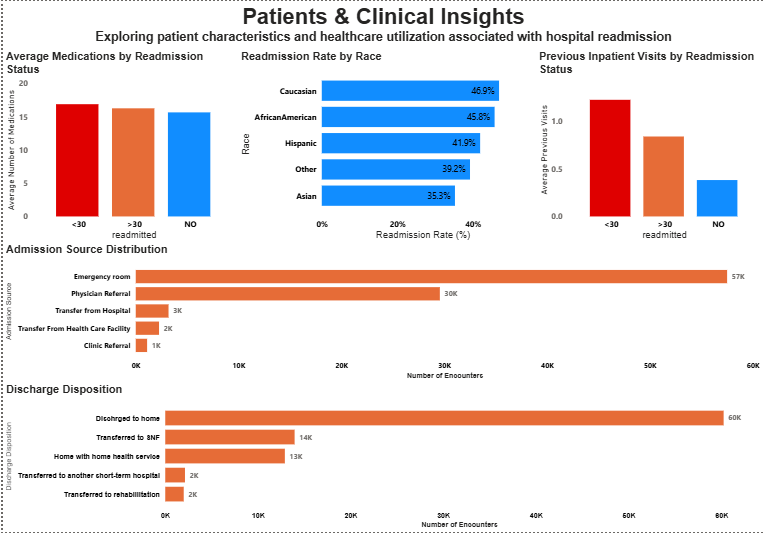

The dashboard page shown, as its layout file describes it:
{"tool":"powerbi","page":{"name":"Patients & Clinical Insights","canvas":[1290,900],"ordinal":1},"visuals":[{"type":"textbox","box":[0,0,1289.8,83.1],"z":0},{"type":"clusteredBarChart","title":"Readmission Rate by Race","fields":{"Category":["Diabetes_readmission_clean.race"],"Y":["AdmissionSourceLookup.Readmission Rate"]},"box":[398.3,83.1,505.1,327.1],"z":1000},{"type":"clusteredColumnChart","title":"Average Medications by Readmission Status","fields":{"Category":["Diabetes_readmission_clean.readmitted"],"Y":["Avg(Diabetes_readmission_clean.num_medications)"]},"box":[0,83.1,398.3,327.1],"z":2000},{"type":"clusteredColumnChart","title":"Previous Inpatient Visits by Readmission Status","fields":{"Category":["Diabetes_readmission_clean.readmitted"],"Y":["Avg(Diabetes_readmission_clean.number_inpatient)"]},"box":[903.4,83.1,386.4,327.1],"z":3000},{"type":"barChart","title":"Admission Source Distribution","fields":{"Category":["AdmissionSourceLookup.Admission Source"],"Y":["Count(Diabetes_readmission_clean.encounter_id)"]},"box":[0,410.2,1289.8,237.3],"z":4000},{"type":"barChart","title":"Discharge Disposition","fields":{"Y":["Count(Diabetes_readmission_clean.encounter_id)"],"Category":["DischargeDispositionLookup.Discharge Disposition"]},"box":[0,647.5,1289.8,252.5],"z":5000}]}

Visuals, with their boxes in screenshot pixels (x1, y1, x2, y2), scaled from the page's 1290x900 canvas onto the 765x533 screenshot:
textbox: l=0, t=0, r=764, b=49
"Readmission Rate by Race" clusteredBarChart: l=236, t=49, r=536, b=243
"Average Medications by Readmission Status" clusteredColumnChart: l=0, t=49, r=236, b=243
"Previous Inpatient Visits by Readmission Status" clusteredColumnChart: l=536, t=49, r=764, b=243
"Admission Source Distribution" barChart: l=0, t=243, r=764, b=383
"Discharge Disposition" barChart: l=0, t=383, r=764, b=532
